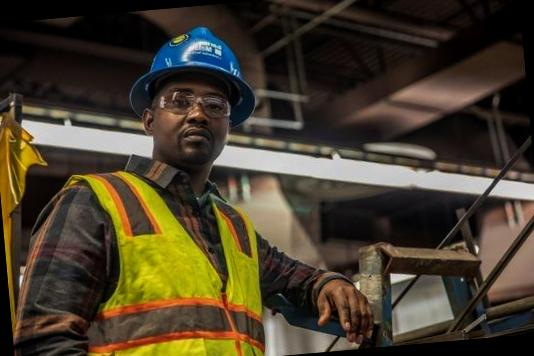helmet: (120, 20, 262, 138)
person: (0, 16, 333, 356)
